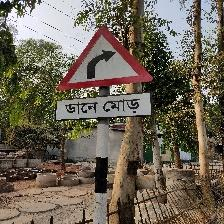Right-turn: (54, 24, 154, 125)
